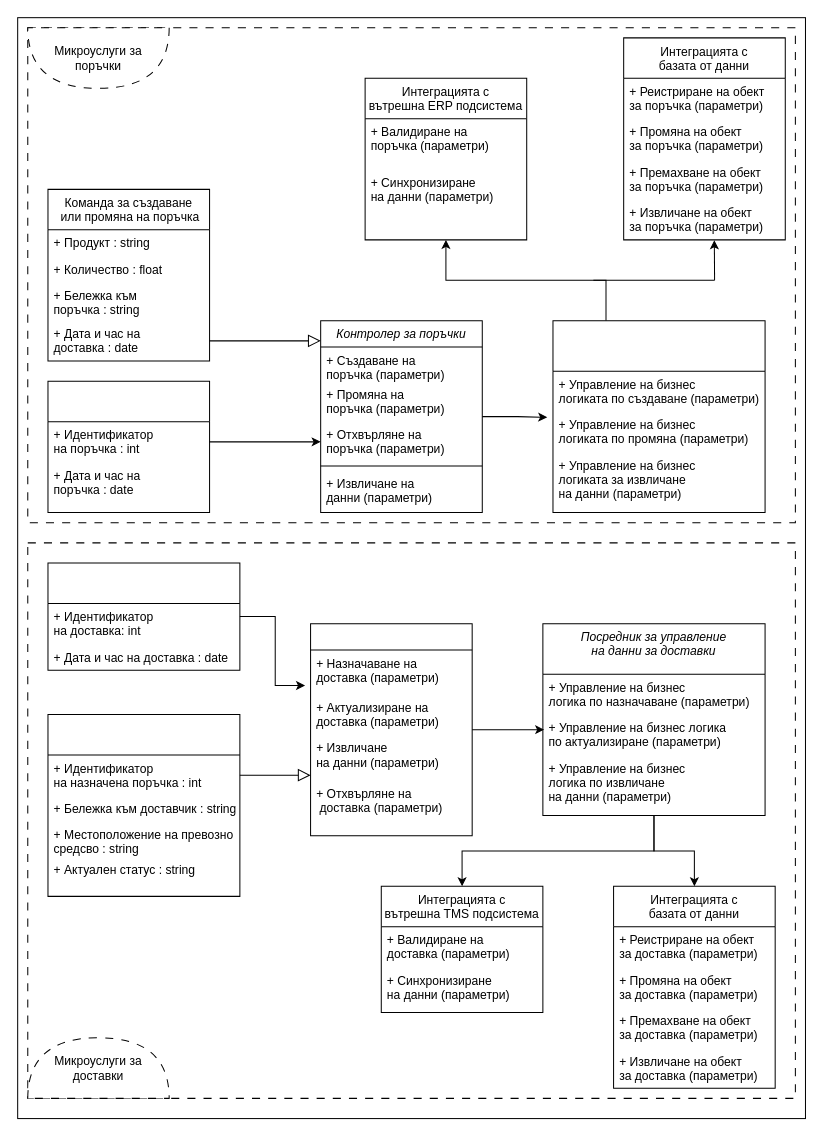
The diagram is 823 pixels wide and 1136 high, and some of its shapes have lost their labels. Here are the shapes that lost their labels. From the top down, the box of each, then its label:
(552, 320, 765, 513): Посредник за управление на данни за поръчки
(47, 380, 210, 513): Заявка за извличане на данни за поръчки
(47, 562, 240, 670): Заявка за извличане на данни за доставки
(310, 623, 472, 836): Контролер за доставки
(47, 714, 240, 896): Команда за създаване или промяна на доставка
